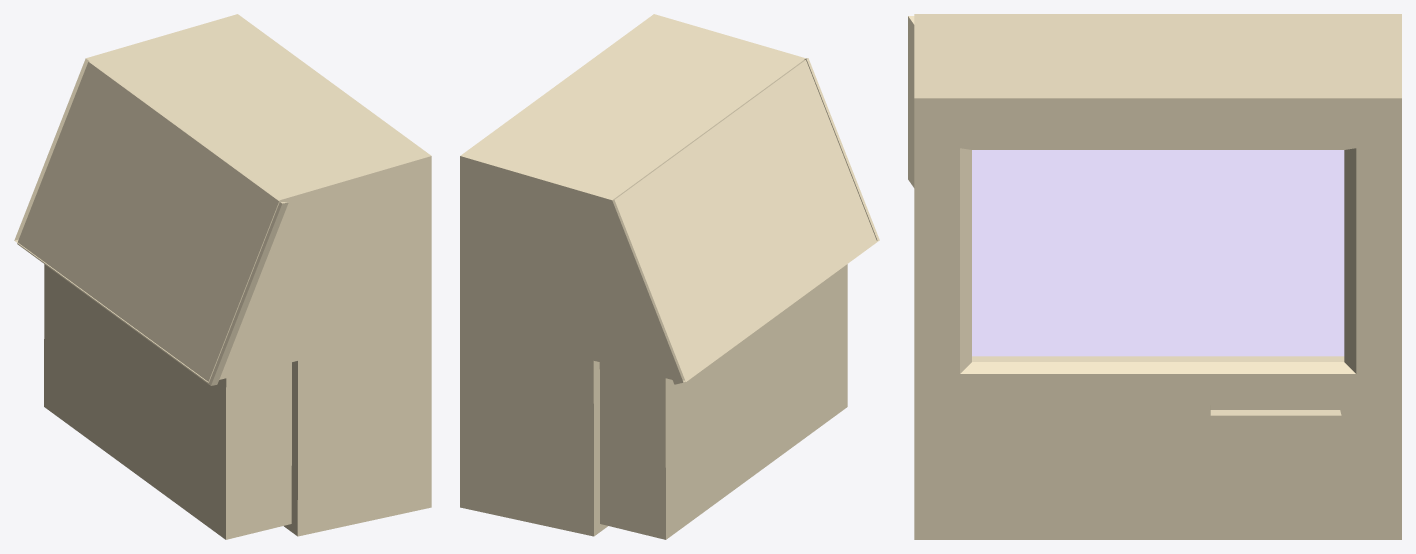
The model's file is computer.glb.
3 views of the same model, side by side, from view 1: azimuth 30°, elevation 25°; view 2: azimuth 150°, elevation 25°; view 3: azimuth 270°, elevation 25° (orthographic). The views are drawn at different scales.
Parts seen in each view (by area): view 1: Cube; view 2: Cube; view 3: Cube.
Part boxes in pixels (box(x1,y1,x2,y2)): Cube: box(14, 14, 431, 539); Cube: box(460, 14, 879, 539); Cube: box(908, 14, 1401, 539).
Size of what is drawn, in the model's own units: 0.0702 by 0.1055 by 0.1069.
